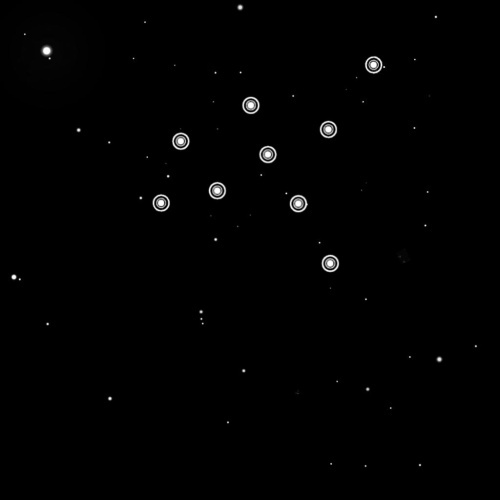cygnus: (148, 49, 386, 279)
